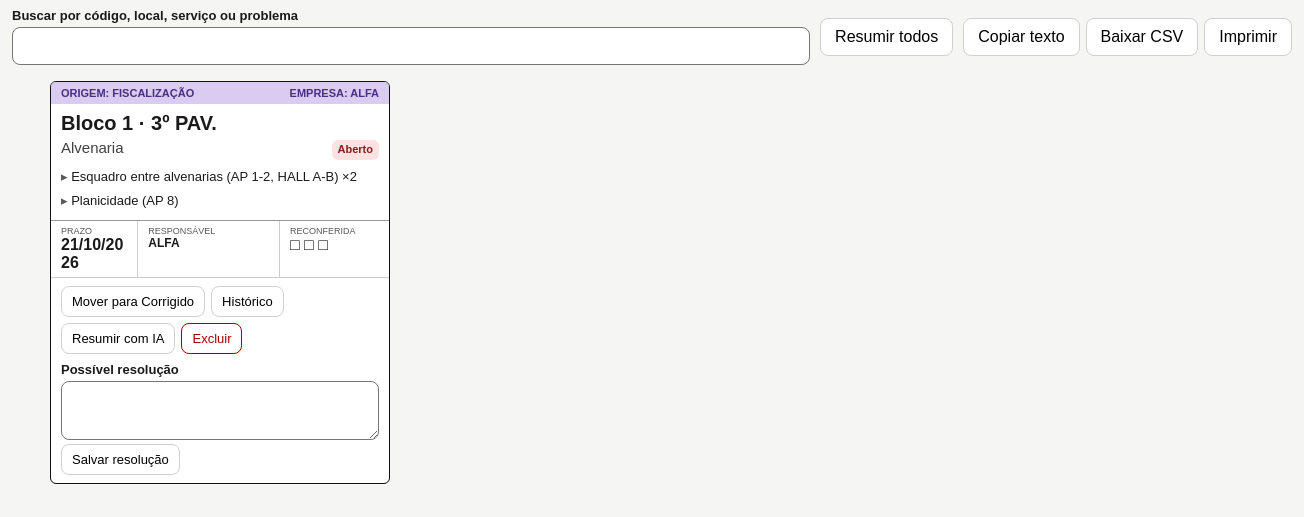
Test: <Cards/> › dono: Resumir todos usa a fila e troca os cards
Click the button "Resumir todos": (887, 36) x1=820 y1=18 x2=953 y2=56
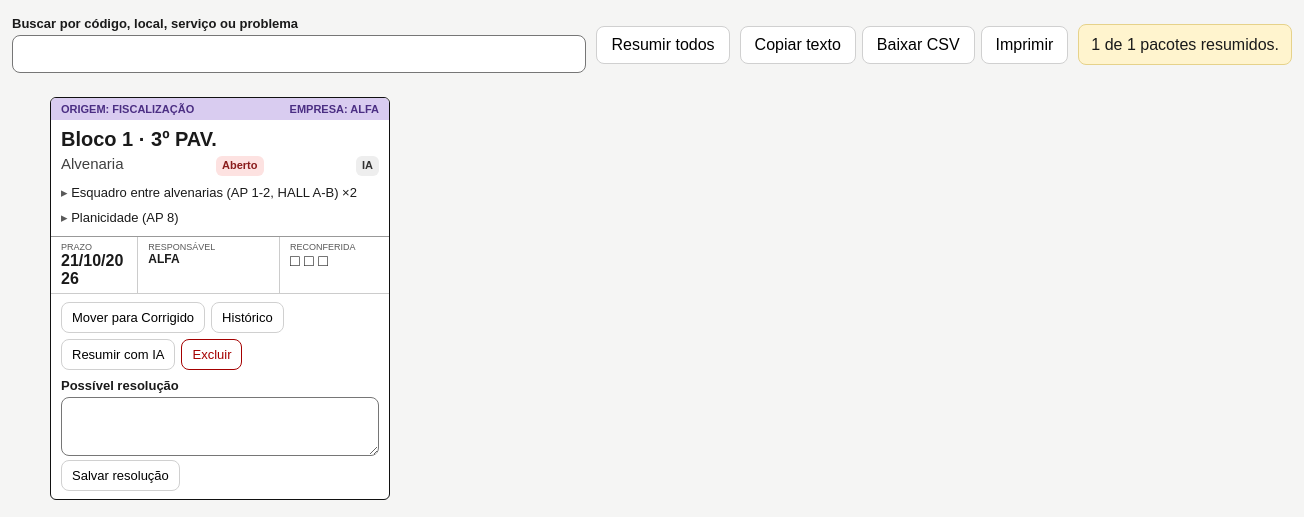
Expected: the text "1 de 1 pacotes resumidos." is shown, x1=1078 y1=24 x2=1292 y2=65
Expected: the text "IA" is shown, x1=356 y1=156 x2=379 y2=176
